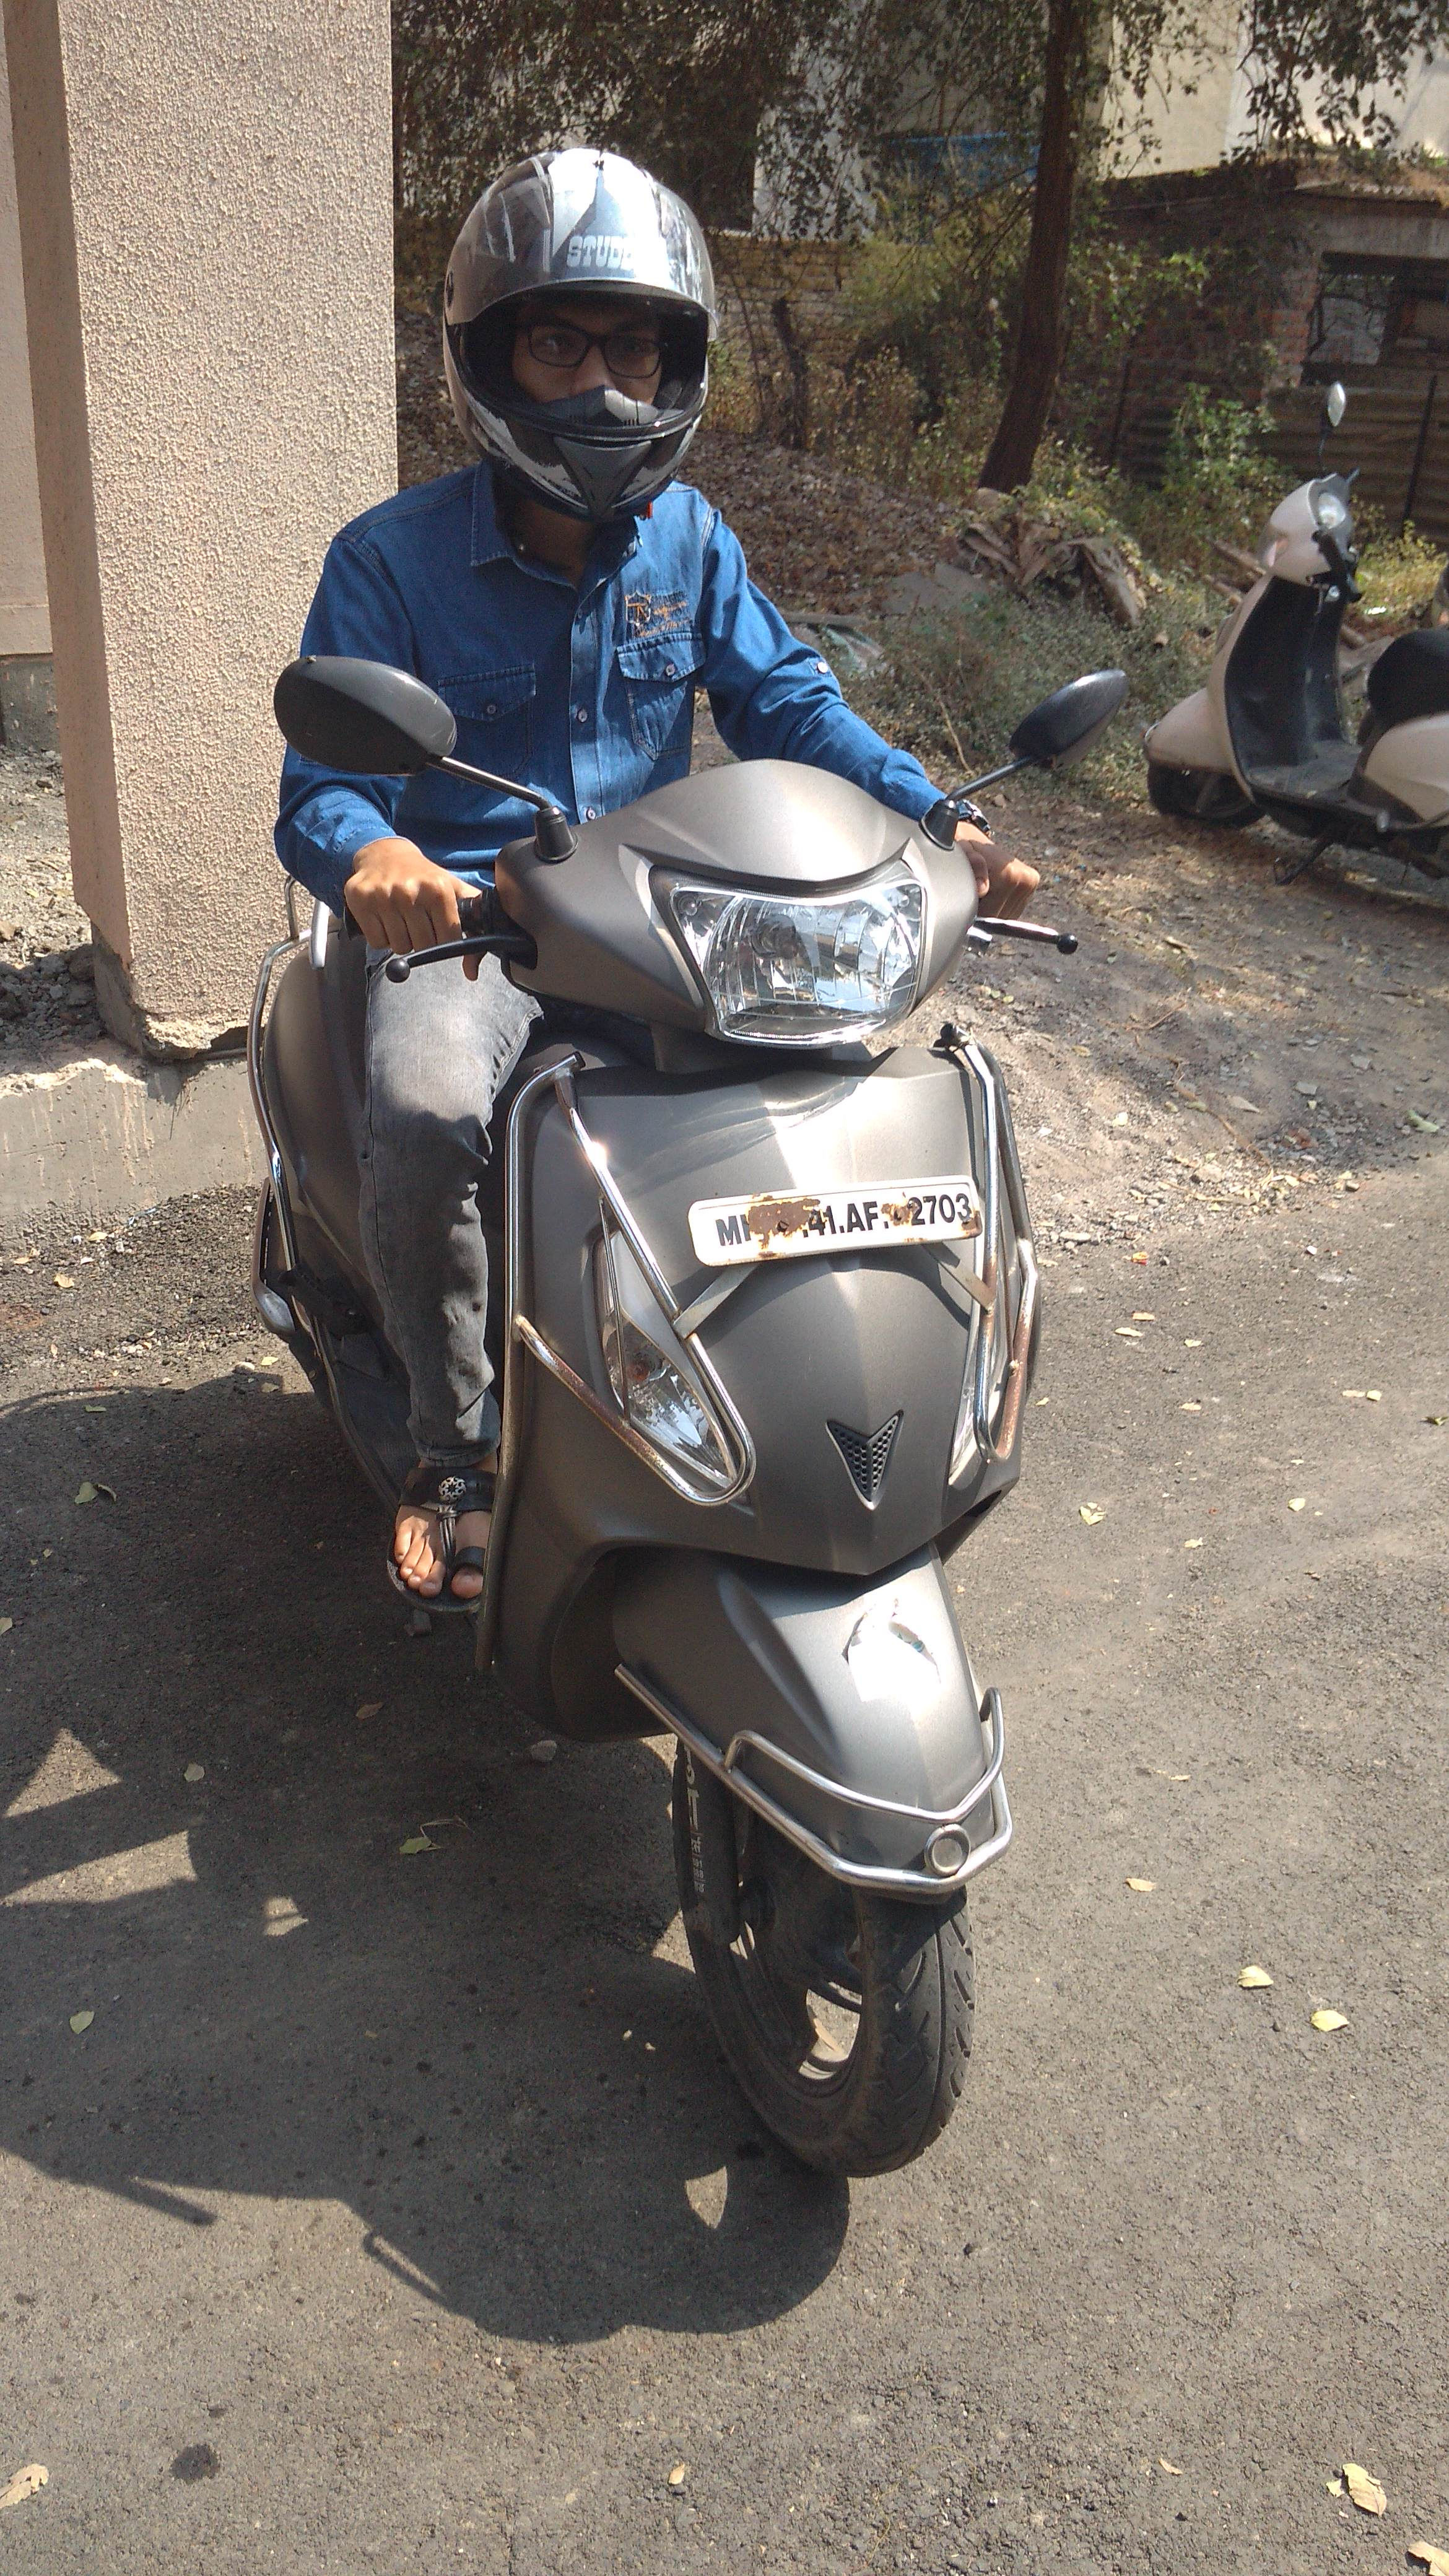helmet: (234, 111, 1072, 1040)
